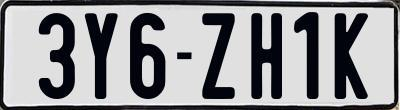1: (293, 11, 318, 100)
3: (38, 12, 74, 104)
6: (129, 13, 164, 100)
H: (249, 10, 286, 96)
K: (335, 12, 373, 103)
Y: (82, 12, 115, 103)
Z: (201, 11, 234, 102)
